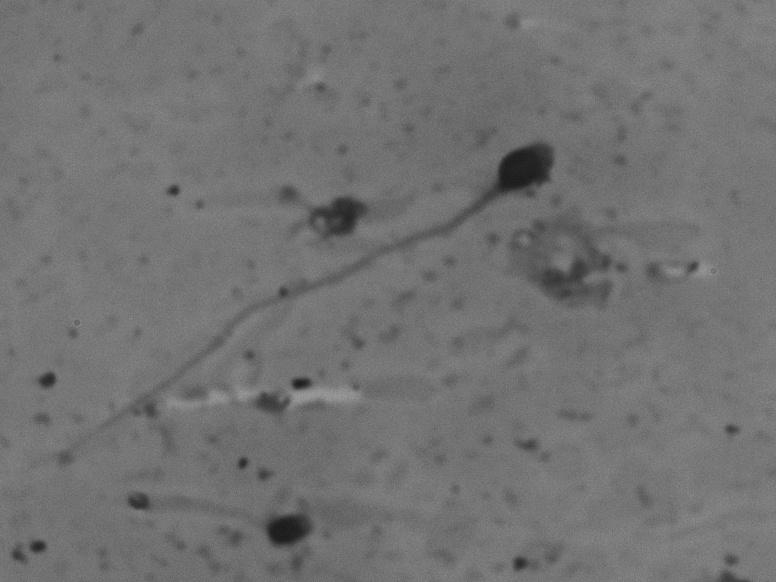Abnormal: (50, 118, 561, 481)
